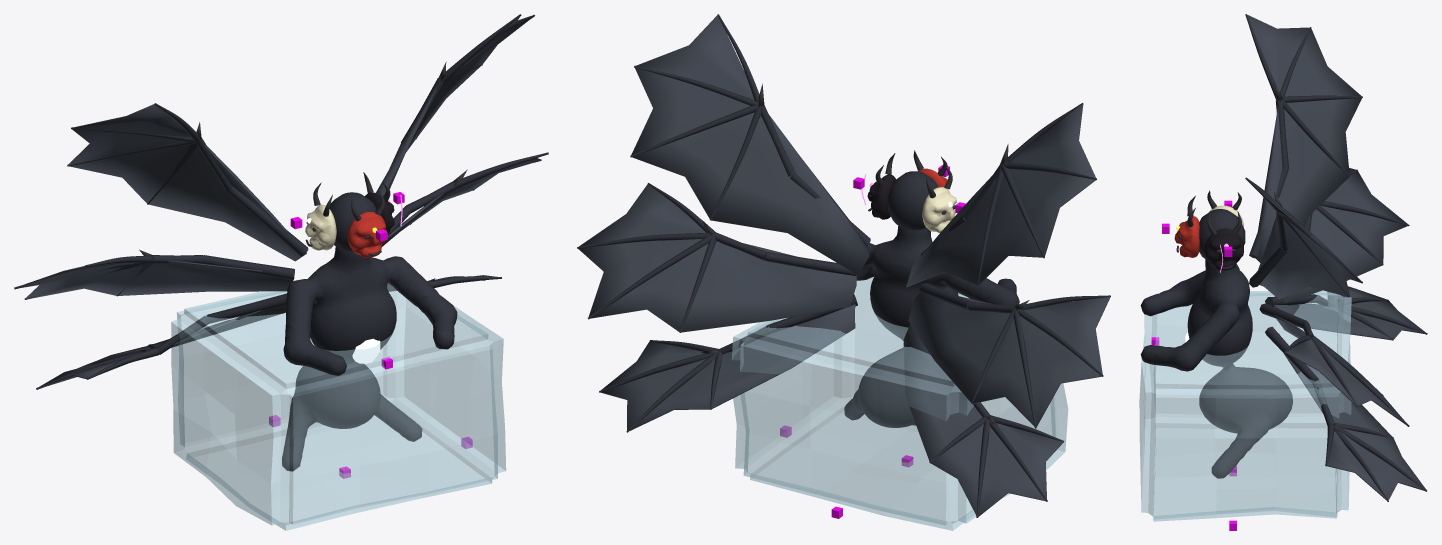
Rendered from 06_ghiacciolo_re_di_ghiaccio.glb.
The picture shows the model from 3 angles, left to right: view 1: azimuth 30°, elevation 25°; view 2: azimuth 150°, elevation 25°; view 3: azimuth 270°, elevation 25°; orthographic projection. The views are drawn at different scales.
Parts seen in each view (by area): view 1: Ghiacciolo__Ghiaccio_Cocito, Ghiacciolo__Chitina_Brinata, Ghiacciolo__Membrana_Ali, Ghiacciolo__Faccia_Rossa, Ghiacciolo__Corna, Ghiacciolo__Faccia_Gialla; view 2: Ghiacciolo__Membrana_Ali, Ghiacciolo__Ghiaccio_Cocito, Ghiacciolo__Chitina_Brinata, Ghiacciolo__Faccia_Gialla, Ghiacciolo__Corna, Ghiacciolo__Faccia_Nera; view 3: Ghiacciolo__Ghiaccio_Cocito, Ghiacciolo__Membrana_Ali, Ghiacciolo__Chitina_Brinata, Ghiacciolo__Faccia_Nera, Ghiacciolo__Corna, Ghiacciolo__Faccia_Rossa.
Boxes of the visible parts, x1=… form: Ghiacciolo__Ghiaccio_Cocito: x1=171, y1=284, x2=506, y2=530; Ghiacciolo__Chitina_Brinata: x1=14, y1=14, x2=548, y2=471; Ghiacciolo__Membrana_Ali: x1=15, y1=15, x2=540, y2=388; Ghiacciolo__Faccia_Rossa: x1=347, y1=212, x2=388, y2=257; Ghiacciolo__Corna: x1=138, y1=61, x2=467, y2=351; Ghiacciolo__Faccia_Gialla: x1=305, y1=204, x2=336, y2=250; Ghiacciolo__Membrana_Ali: x1=578, y1=15, x2=1110, y2=516; Ghiacciolo__Ghiaccio_Cocito: x1=731, y1=277, x2=1068, y2=530; Ghiacciolo__Chitina_Brinata: x1=577, y1=14, x2=1110, y2=517; Ghiacciolo__Faccia_Gialla: x1=922, y1=187, x2=956, y2=232; Ghiacciolo__Corna: x1=701, y1=83, x2=1029, y2=424; Ghiacciolo__Faccia_Nera: x1=867, y1=174, x2=895, y2=219; Ghiacciolo__Ghiaccio_Cocito: x1=1139, y1=290, x2=1351, y2=521; Ghiacciolo__Membrana_Ali: x1=1246, y1=14, x2=1426, y2=500; Ghiacciolo__Chitina_Brinata: x1=1140, y1=14, x2=1427, y2=501; Ghiacciolo__Faccia_Nera: x1=1205, y1=228, x2=1243, y2=270; Ghiacciolo__Corna: x1=1176, y1=81, x2=1340, y2=431; Ghiacciolo__Faccia_Rossa: x1=1174, y1=216, x2=1199, y2=257.
Size of the model in its own units: 6.49 by 4.86 by 3.34.
